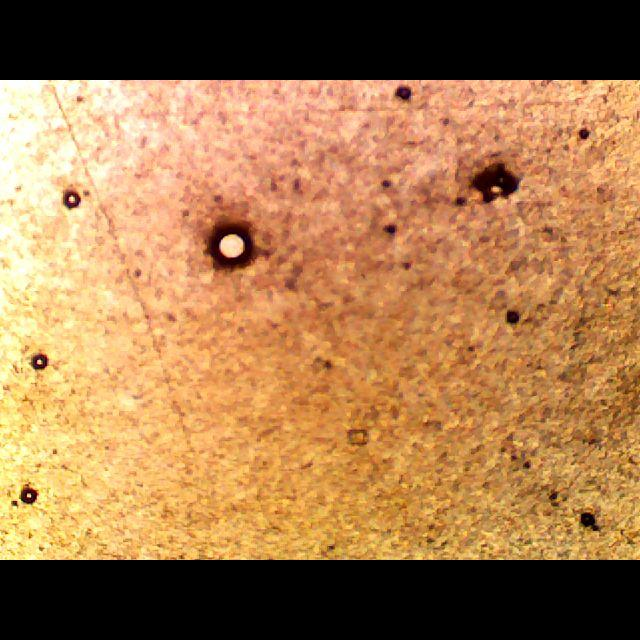microbeads: (203, 225, 259, 269), (472, 164, 520, 203), (16, 484, 38, 508), (61, 188, 80, 212), (30, 356, 48, 370)
